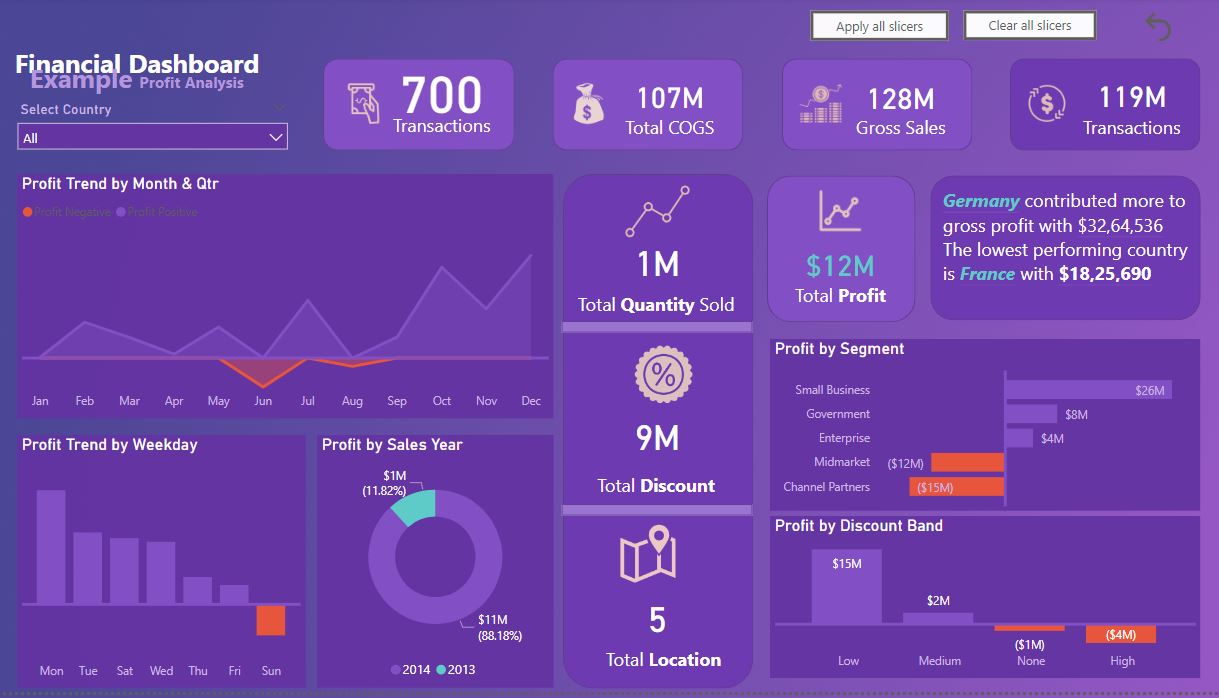

This screenshot's page, from the dashboard's own definition file:
{"tool":"powerbi","page":{"name":"Page 1","canvas":[1280,720],"ordinal":0},"visuals":[{"type":"shape","box":[336.5,63.2,198.4,95.3],"z":0},{"type":"shape","box":[574.5,63.2,197.4,95.3],"z":1000},{"type":"shape","box":[811.5,63.2,197.4,95.3],"z":2000},{"type":"shape","box":[1048.5,63.2,197.4,95.3],"z":3000},{"type":"image","box":[583.6,82.7,56.4,55.4],"z":4000},{"type":"image","box":[1034.9,83.6,104.1,52.5],"z":5000},{"type":"image","box":[318.1,82.7,117.7,55.4],"z":6000},{"type":"card","fields":{"Values":["All Measures.# Transaction"]},"box":[406.6,61.3,105,67.1],"z":7000},{"type":"textbox","box":[392.9,115.8,131.3,45.7],"z":8000},{"type":"card","fields":{"Values":["All Measures.COGS"]},"box":[642.9,68.1,105,67.1],"z":9000},{"type":"textbox","box":[629.3,116.7,131.3,45.7],"z":10000},{"type":"card","fields":{"Values":["All Measures.Gross Sales"]},"box":[882.2,70,105,67.1],"z":11000},{"type":"textbox","box":[868.6,116.7,131.3,45.7],"z":12000},{"type":"card","fields":{"Values":["All Measures.Net Sales"]},"box":[1122.4,77.8,103.1,48.6],"z":13000},{"type":"textbox","box":[1108.8,116.7,131.3,45.7],"z":14000},{"type":"image","box":[821.9,80.7,58.4,58.4],"z":15000},{"type":"textbox","box":[0,45,286,50],"z":16000},{"type":"textbox","box":[9,61,267,51],"z":17000},{"type":"areaChart","title":"Profit Trend by Month & Qtr","fields":{"Category":["Calendar.Month","Calendar.Qtr"],"Y":["All Measures.Profit Negative","All Measures.Profit Positive"]},"box":[19,183,556,253],"z":18000},{"type":"columnChart","title":"Profit Trend by Weekday","fields":{"Category":["Calendar.Weekday"],"Y":["All Measures.Total Profit"]},"box":[19,454,299,262],"z":19000},{"type":"donutChart","title":"Profit by Sales Year","fields":{"Y":["All Measures.Total Profit"],"Category":["Calendar.Year"]},"box":[330,454,245,262],"z":20000},{"type":"shape","box":[584,183,197,533],"z":21000},{"type":"image","box":[636,538,73,78],"z":22000},{"type":"image","box":[641.1,182.8,83.3,77.8],"z":23000},{"type":"shape","box":[583.3,335.3,198,12],"z":24000},{"type":"shape","box":[583.3,525.6,197.8,12.2],"z":25000},{"type":"textbox","box":[588,300,187,37],"z":26000},{"type":"textbox","box":[610,489,143,37],"z":27000},{"type":"textbox","box":[617,668,143,37],"z":28000},{"type":"card","fields":{"Values":["Sum(financials.Units Sold)"]},"box":[616,247,132,52],"z":29000},{"type":"card","fields":{"Values":["All Measures.Total Discount"]},"box":[616,428,132,52],"z":30000},{"type":"card","fields":{"Values":["Count(financials.Country)"]},"box":[616,616,132,52],"z":31000},{"type":"shape","box":[796,185,154,152],"z":32000},{"type":"image","box":[842,193,62,57],"z":33000},{"type":"image","box":[644.9,352.4,87.7,76],"z":34000},{"type":"textbox","box":[815,291,115,37],"z":35000},{"type":"card","fields":{"Values":["All Measures.Total Profit"]},"box":[820,243,105,67],"z":36000},{"type":"shape","box":[966,185,280,150],"z":37000},{"type":"barChart","title":"Profit by Segment","fields":{"Category":["financials.Segment"],"Y":["All Measures.Total Profit"]},"box":[800,354,446,178],"z":38000},{"type":"columnChart","title":"Profit by Discount Band","fields":{"Y":["All Measures.Total Profit"],"Category":["financials.Discount Band"]},"box":[800,538,446,168],"z":39000},{"type":"slicer","fields":{"Values":["financials.Country"]},"box":[9,102,300,75],"z":40000},{"type":"textbox","box":[974,193,272,144],"z":41000},{"type":"actionButton","box":[1182.3,11.5,44.1,40.2],"z":42000},{"type":"actionButton","box":[841.6,13.4,143.1,31.3],"z":43000},{"type":"actionButton","box":[1000,14.3,137.7,30.4],"z":44000}]}

Visuals, with their boxes in screenshot pixels (x1, y1, x2, y2), scaled from the page's 1280x720 canvas onto the 1219x698 screenshot:
shape: [left=320, top=61, right=509, bottom=154]
shape: [left=547, top=61, right=735, bottom=154]
shape: [left=773, top=61, right=961, bottom=154]
shape: [left=999, top=61, right=1187, bottom=154]
image: [left=556, top=80, right=610, bottom=134]
image: [left=986, top=81, right=1085, bottom=132]
image: [left=303, top=80, right=415, bottom=134]
card - All Measures.# Transaction: [left=387, top=59, right=487, bottom=124]
textbox: [left=374, top=112, right=499, bottom=157]
card - All Measures.COGS: [left=612, top=66, right=712, bottom=131]
textbox: [left=599, top=113, right=724, bottom=157]
card - All Measures.Gross Sales: [left=840, top=68, right=940, bottom=133]
textbox: [left=827, top=113, right=952, bottom=157]
card - All Measures.Net Sales: [left=1069, top=75, right=1167, bottom=123]
textbox: [left=1056, top=113, right=1181, bottom=157]
image: [left=783, top=78, right=838, bottom=135]
textbox: [left=0, top=44, right=272, bottom=92]
textbox: [left=9, top=59, right=263, bottom=109]
"Profit Trend by Month & Qtr" areaChart: [left=18, top=177, right=548, bottom=423]
"Profit Trend by Weekday" columnChart: [left=18, top=440, right=303, bottom=694]
"Profit by Sales Year" donutChart: [left=314, top=440, right=548, bottom=694]
shape: [left=556, top=177, right=744, bottom=694]
image: [left=606, top=522, right=675, bottom=597]
image: [left=611, top=177, right=690, bottom=253]
shape: [left=556, top=325, right=744, bottom=337]
shape: [left=556, top=510, right=744, bottom=521]
textbox: [left=560, top=291, right=738, bottom=327]
textbox: [left=581, top=474, right=717, bottom=510]
textbox: [left=588, top=648, right=724, bottom=683]
card - Sum(financials.Units Sold): [left=587, top=239, right=712, bottom=290]
card - All Measures.Total Discount: [left=587, top=415, right=712, bottom=465]
card - Count(financials.Country): [left=587, top=597, right=712, bottom=648]
shape: [left=758, top=179, right=905, bottom=327]
image: [left=802, top=187, right=861, bottom=242]
image: [left=614, top=342, right=698, bottom=415]
textbox: [left=776, top=282, right=886, bottom=318]
card - All Measures.Total Profit: [left=781, top=236, right=881, bottom=301]
shape: [left=920, top=179, right=1187, bottom=325]
"Profit by Segment" barChart: [left=762, top=343, right=1187, bottom=516]
"Profit by Discount Band" columnChart: [left=762, top=522, right=1187, bottom=684]
slicer - financials.Country: [left=9, top=99, right=294, bottom=172]
textbox: [left=928, top=187, right=1187, bottom=327]
actionButton: [left=1126, top=11, right=1168, bottom=50]
actionButton: [left=801, top=13, right=938, bottom=43]
actionButton: [left=952, top=14, right=1083, bottom=43]
